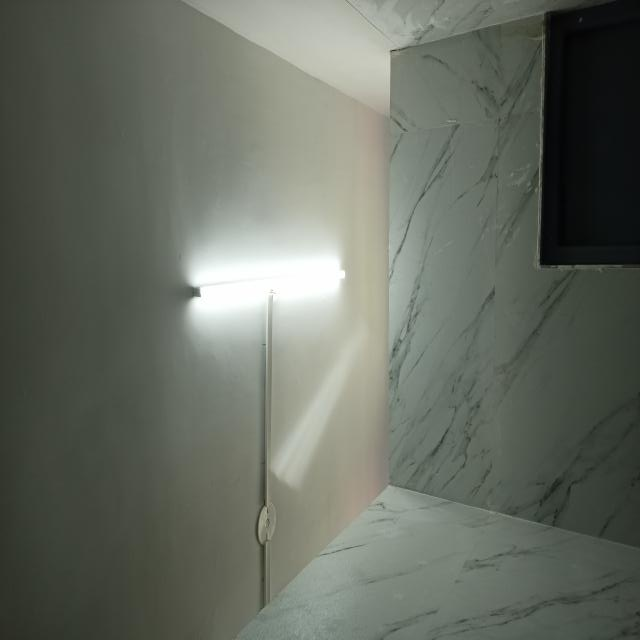fluorescent tube: (188, 258, 349, 307)
